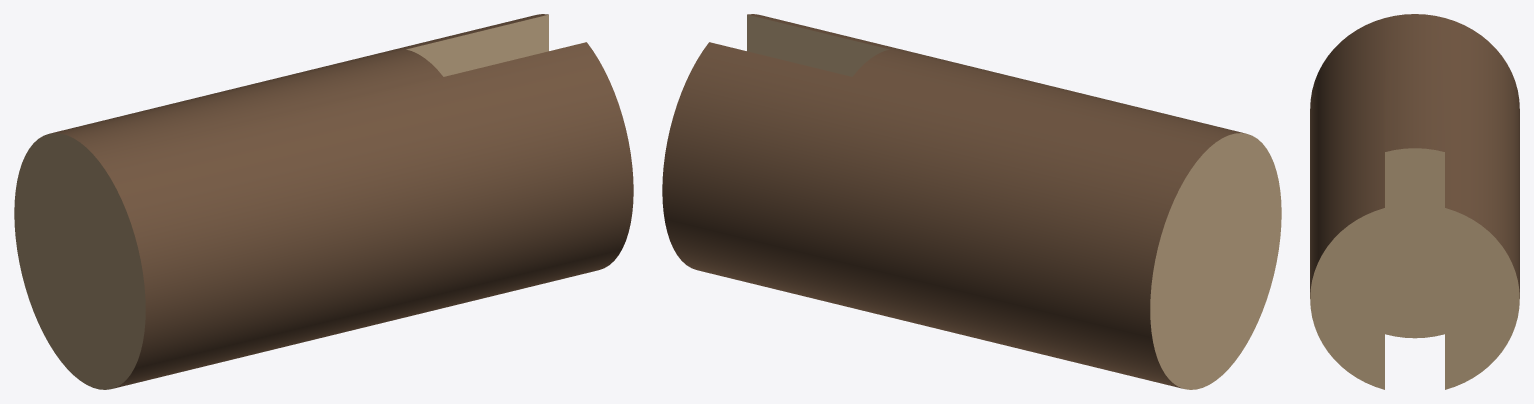
The model's file is SM_RawLog_75_Notch_Fork.fbx.
The picture shows the model from 3 angles, left to right: view 1: azimuth 30°, elevation 25°; view 2: azimuth 150°, elevation 25°; view 3: azimuth 270°, elevation 25°; orthographic projection. The views are drawn at different scales.
Visible parts, largest first — view 1: RawLog_75_Notch_Fork; view 2: RawLog_75_Notch_Fork; view 3: RawLog_75_Notch_Fork.
Boxes of the visible parts, x1,y1,x2,y2 form: RawLog_75_Notch_Fork: (14,14,633,389); RawLog_75_Notch_Fork: (662,14,1281,389); RawLog_75_Notch_Fork: (1310,14,1519,389).
Size of what is drawn, in the model's own units: 0.75 by 0.35 by 0.35.
